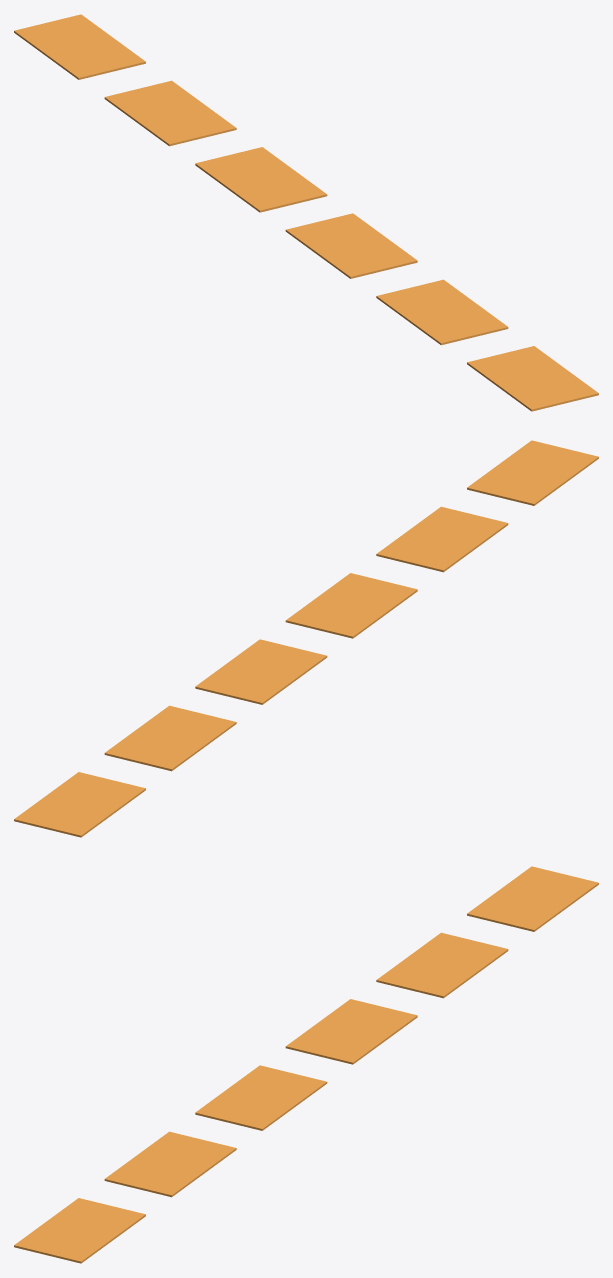
Rendered from marking_curb_red_segment.glb.
3 views of the same model, one above another, from view 1: azimuth 30°, elevation 25°; view 2: azimuth 150°, elevation 25°; view 3: azimuth 330°, elevation 25° (orthographic).
Visible parts, largest first — view 1: curb_red_2, curb_red_3, curb_red_0, curb_red_5, curb_red_1, curb_red_4; view 2: curb_red_2, curb_red_3, curb_red_0, curb_red_5, curb_red_1, curb_red_4; view 3: curb_red_2, curb_red_3, curb_red_0, curb_red_5, curb_red_1, curb_red_4.
Part boxes in pixels (x1,y1,x2,y2): curb_red_2: (195, 147, 327, 212); curb_red_3: (285, 213, 417, 278); curb_red_0: (14, 14, 145, 79); curb_red_5: (467, 346, 598, 411); curb_red_1: (104, 80, 236, 146); curb_red_4: (376, 279, 508, 345); curb_red_2: (195, 639, 327, 704); curb_red_3: (285, 573, 417, 638); curb_red_0: (14, 772, 145, 837); curb_red_5: (467, 440, 598, 505); curb_red_1: (104, 705, 236, 771); curb_red_4: (376, 506, 508, 572); curb_red_2: (285, 999, 417, 1064); curb_red_3: (195, 1065, 327, 1130); curb_red_0: (467, 866, 598, 931); curb_red_5: (14, 1198, 145, 1263); curb_red_1: (376, 932, 508, 998); curb_red_4: (104, 1131, 236, 1197).
Size of the model in its own units: 0.18 by 0.005 by 2.4.
